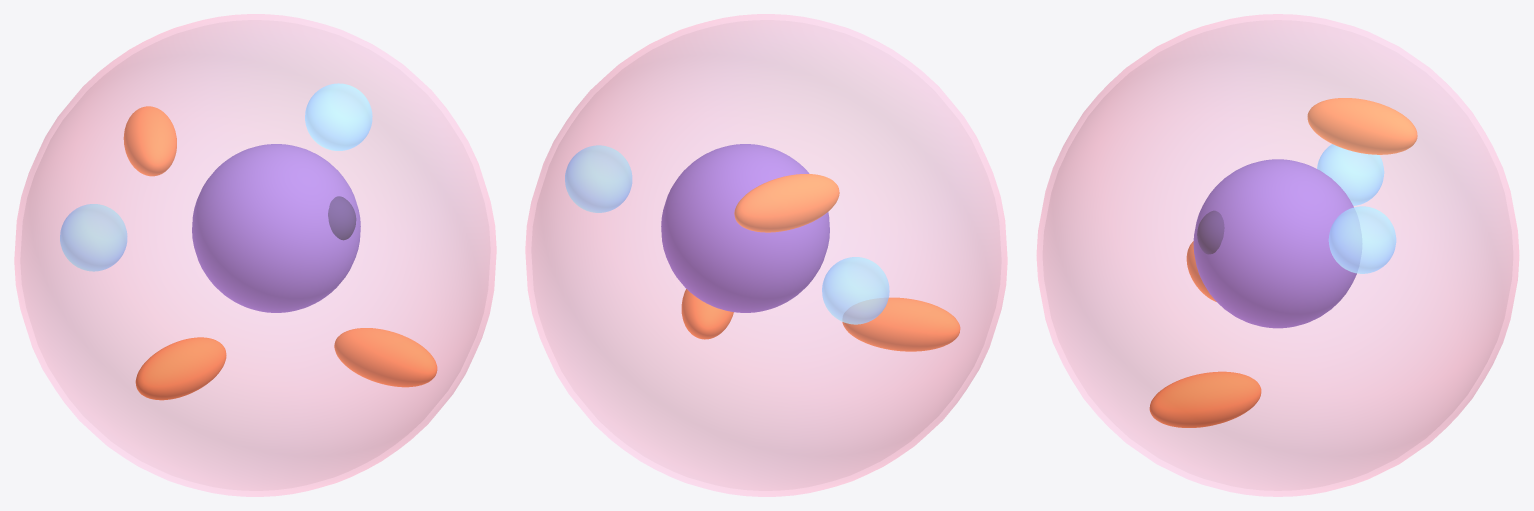
Rendered from animal.glb.
3 renders of one model, left to right at view 1: azimuth 30°, elevation 25°; view 2: azimuth 150°, elevation 25°; view 3: azimuth 270°, elevation 25°, orthographic.
Visible parts, largest first — view 1: membrane, nucleus, mito1, mito0, vac0, vac1, mito2, nucleolus; view 2: membrane, nucleus, mito2, mito0, vac0, vac1, mito1; view 3: membrane, nucleus, mito1, mito2, vac0, vac1, nucleolus.
Part boxes in pixels (x1=…): membrane: x1=14, y1=14, x2=496, y2=496; nucleus: x1=192, y1=144, x2=360, y2=312; mito1: x1=334, y1=328, x2=437, y2=387; mito0: x1=135, y1=337, x2=226, y2=400; vac0: x1=305, y1=83, x2=372, y2=150; vac1: x1=60, y1=204, x2=127, y2=271; mito2: x1=123, y1=106, x2=176, y2=176; nucleolus: x1=328, y1=196, x2=356, y2=240; membrane: x1=525, y1=14, x2=1007, y2=496; nucleus: x1=661, y1=144, x2=829, y2=312; mito2: x1=734, y1=174, x2=839, y2=232; mito0: x1=842, y1=297, x2=960, y2=351; vac0: x1=565, y1=145, x2=632, y2=212; vac1: x1=822, y1=257, x2=889, y2=324; mito1: x1=681, y1=289, x2=733, y2=339; membrane: x1=1036, y1=14, x2=1519, y2=496; nucleus: x1=1193, y1=159, x2=1356, y2=328; mito1: x1=1149, y1=371, x2=1261, y2=427; mito2: x1=1307, y1=98, x2=1417, y2=154; vac0: x1=1328, y1=206, x2=1396, y2=273; vac1: x1=1317, y1=144, x2=1384, y2=205; nucleolus: x1=1197, y1=210, x2=1224, y2=254.
Size of the model in its own units: 0.4 by 0.4 by 0.4.
